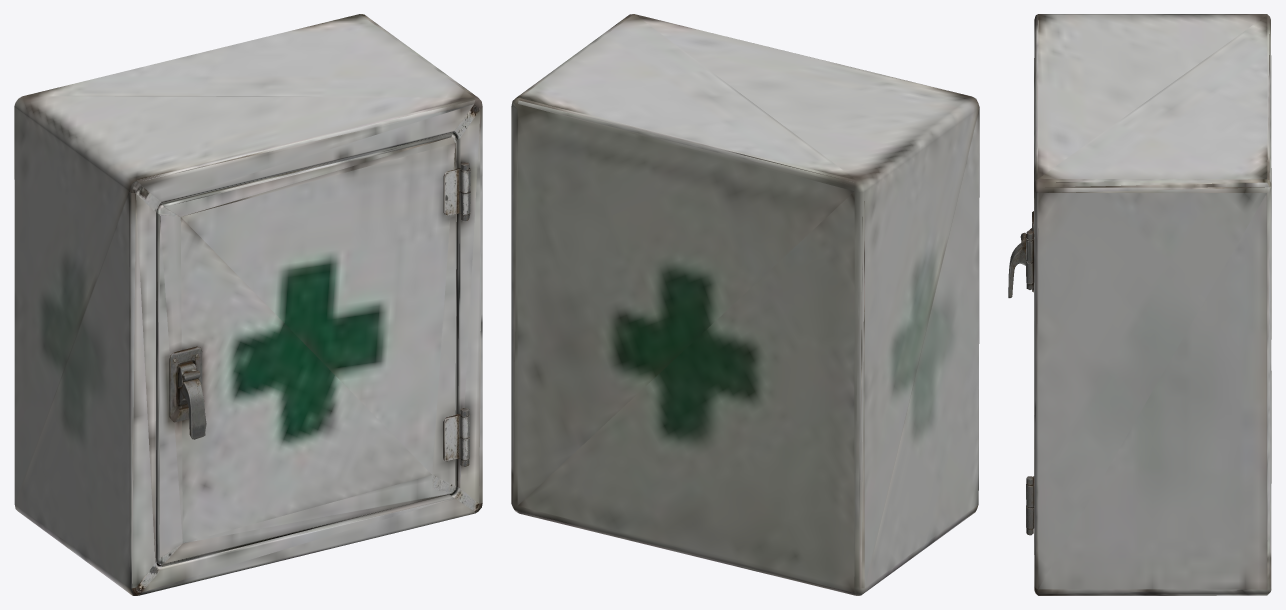
File: p7-first-aid-wall-kit-t25.glb
3 views of the same model, side by side, from view 1: azimuth 30°, elevation 25°; view 2: azimuth 150°, elevation 25°; view 3: azimuth 270°, elevation 25° (orthographic).
Visible parts, largest first — view 1: p7-first-aid-wall-kit-t25; view 2: p7-first-aid-wall-kit-t25; view 3: p7-first-aid-wall-kit-t25.
Part boxes in pixels (bbox=[...]): p7-first-aid-wall-kit-t25: bbox=[14, 14, 482, 595]; p7-first-aid-wall-kit-t25: bbox=[511, 14, 979, 595]; p7-first-aid-wall-kit-t25: bbox=[1008, 14, 1271, 595].
Size of the model in its own units: 0.4 by 0.45 by 0.258.
1 material, 1 textured.
